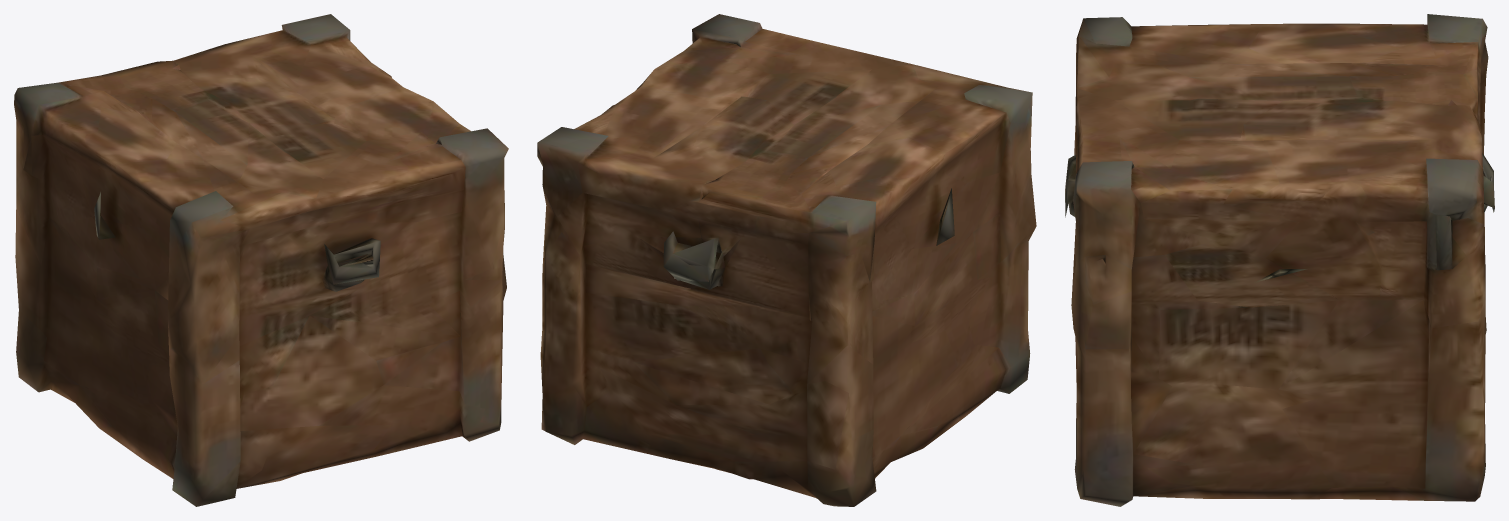
Rendered from crate.glb.
3 renders of one model, left to right at view 1: azimuth 30°, elevation 25°; view 2: azimuth 150°, elevation 25°; view 3: azimuth 270°, elevation 25°, orthographic. The views are drawn at different scales.
Parts seen in each view (by area): view 1: tripo_node_b1b9d791-bf49-4a69-9bb4-9982ea1ce4d4; view 2: tripo_node_b1b9d791-bf49-4a69-9bb4-9982ea1ce4d4; view 3: tripo_node_b1b9d791-bf49-4a69-9bb4-9982ea1ce4d4.
Boxes of the visible parts, x1=… form: tripo_node_b1b9d791-bf49-4a69-9bb4-9982ea1ce4d4: x1=14, y1=14, x2=508, y2=506; tripo_node_b1b9d791-bf49-4a69-9bb4-9982ea1ce4d4: x1=537, y1=14, x2=1036, y2=506; tripo_node_b1b9d791-bf49-4a69-9bb4-9982ea1ce4d4: x1=1065, y1=14, x2=1494, y2=506.
Bounding box in the file's own units: 0.9872 × 0.8394 × 1.
1 material, 1 textured.
